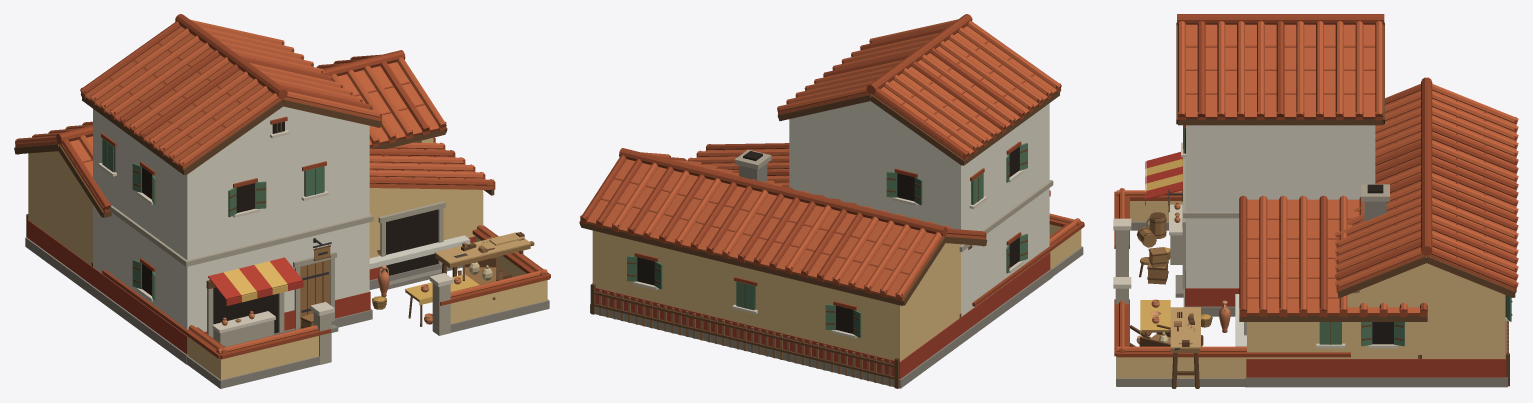
Rendered from Werkstatt.fbx.
3 renders of one model, left to right at view 1: azimuth 30°, elevation 25°; view 2: azimuth 150°, elevation 25°; view 3: azimuth 270°, elevation 25°, orthographic. The views are drawn at different scales.
Visible parts, largest first — view 1: Werkstatt_1, Werkstatt_0; view 2: Werkstatt_0, Werkstatt_1; view 3: Werkstatt_1, Werkstatt_0.
Boxes of the visible parts, left/top/right/bottom form: Werkstatt_1: left=26, top=14, right=534, bottom=364; Werkstatt_0: left=14, top=50, right=550, bottom=388; Werkstatt_0: left=579, top=148, right=1084, bottom=388; Werkstatt_1: left=590, top=14, right=1061, bottom=388; Werkstatt_1: left=1139, top=14, right=1509, bottom=388; Werkstatt_0: left=1113, top=77, right=1518, bottom=387.
Size of the model in its own units: 3.64 by 2.55 by 3.63.
